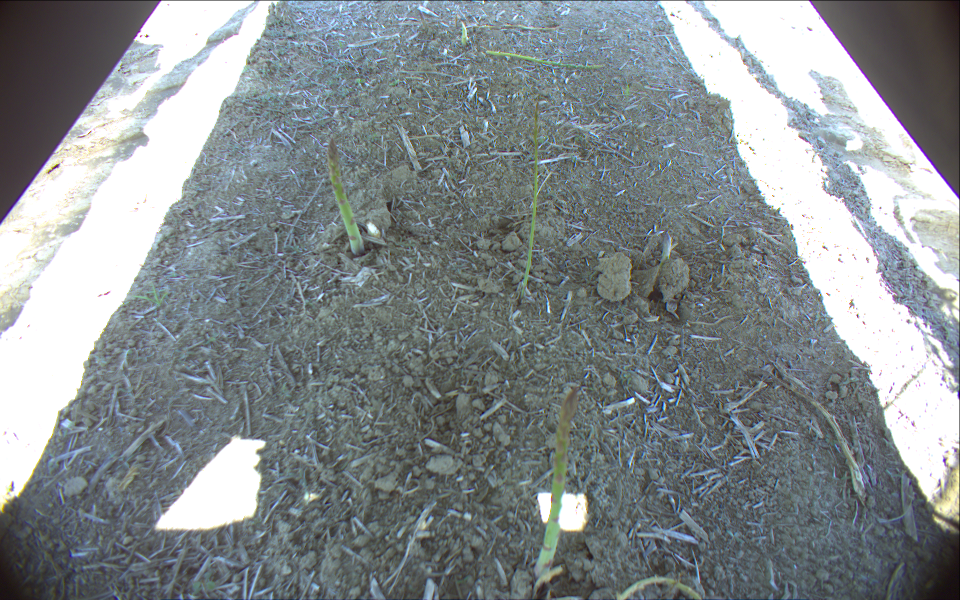aspa: (531, 383, 582, 585), (320, 137, 365, 258), (518, 98, 541, 294)
